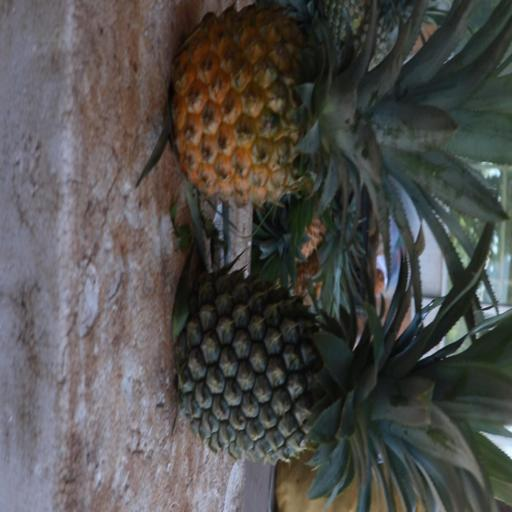Pineapple - v8 v1: (172, 25, 474, 211)
